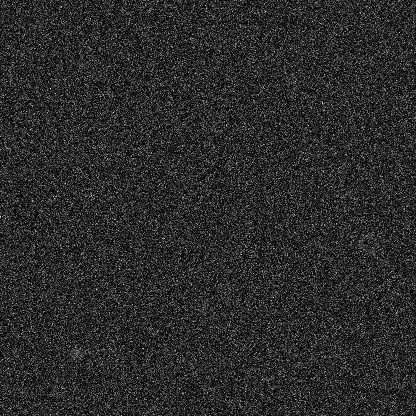Ring: (356, 230, 380, 254)
Spot: (340, 110, 356, 126), (195, 301, 211, 317), (92, 65, 108, 81), (68, 344, 84, 360), (281, 73, 297, 89)
